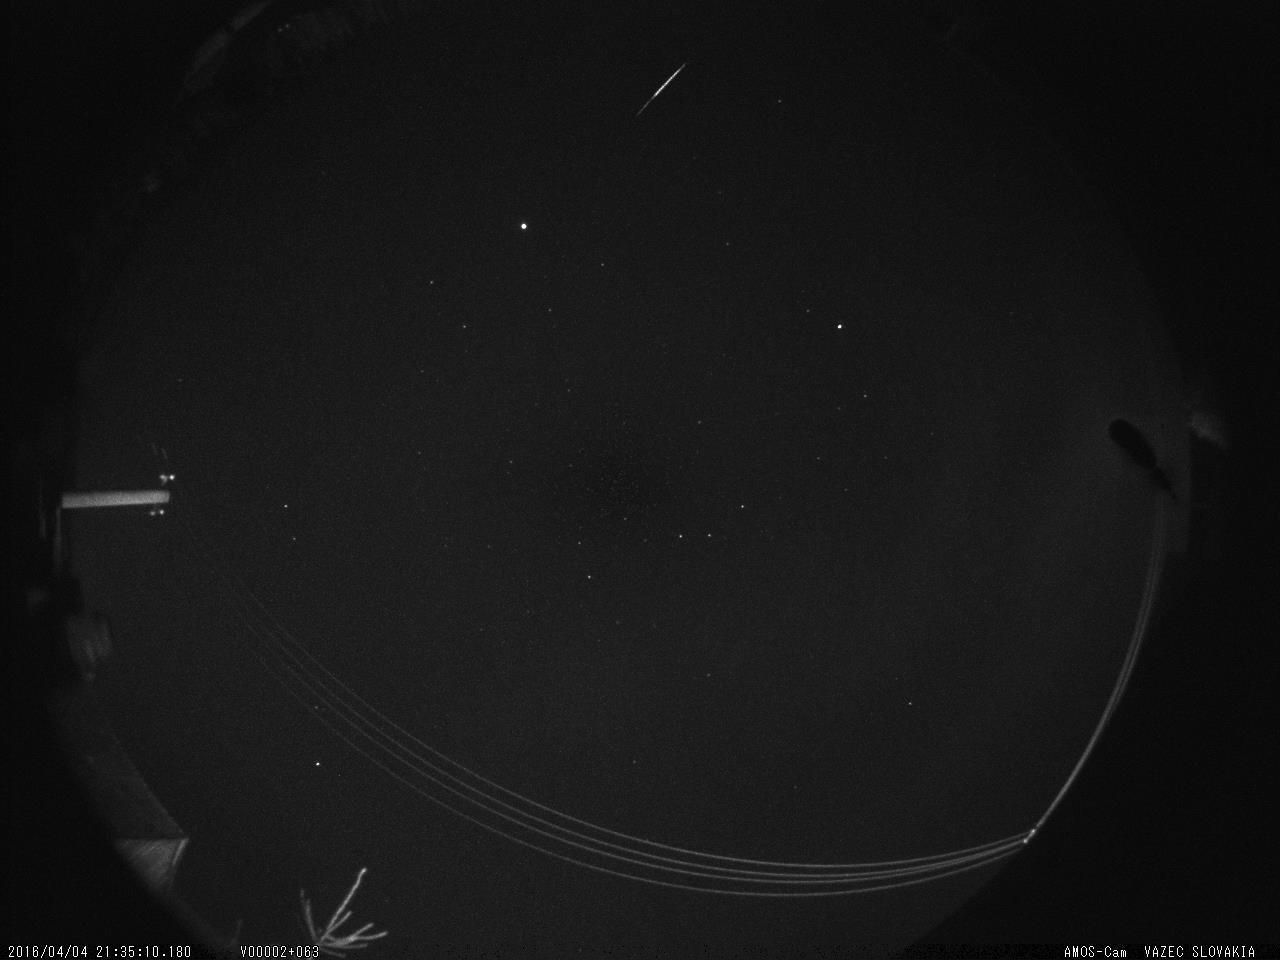Meteor: (626, 49, 699, 139)
